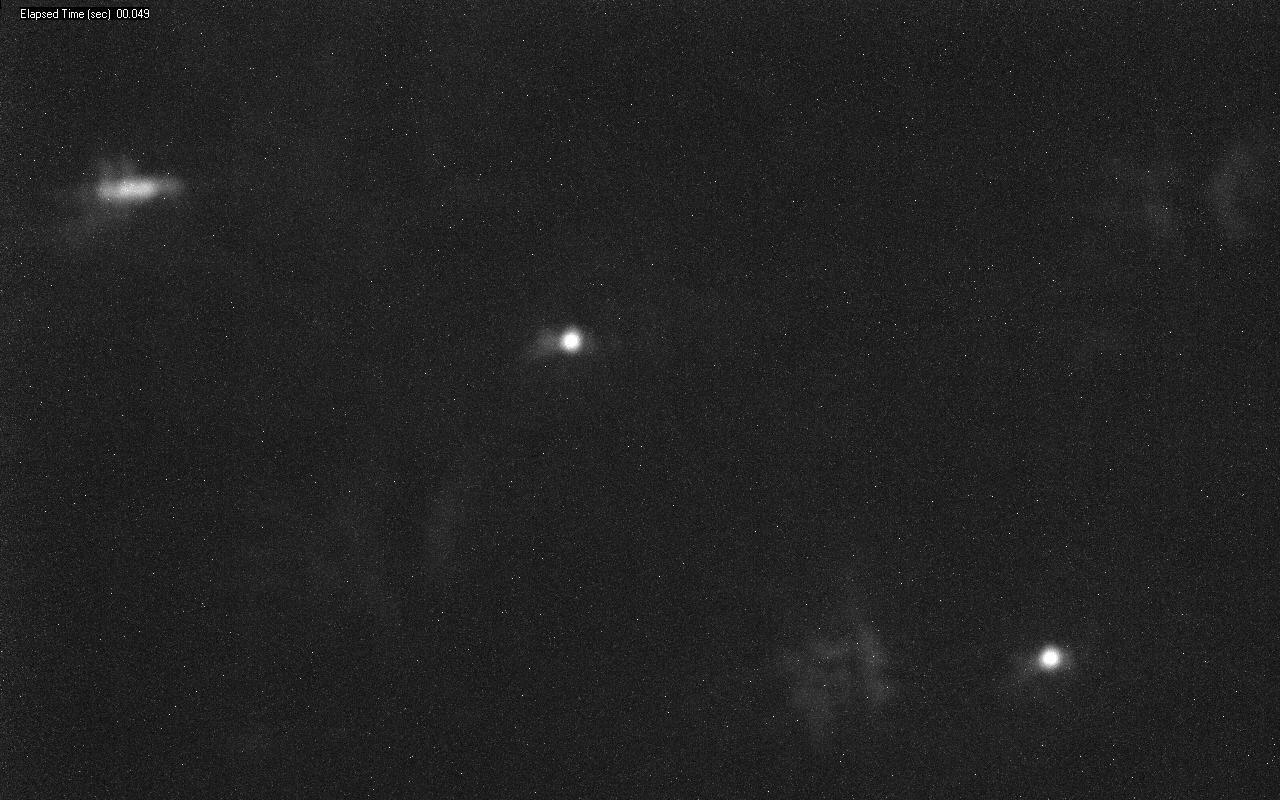Bead: (559, 330, 581, 351), (1040, 647, 1060, 668)
